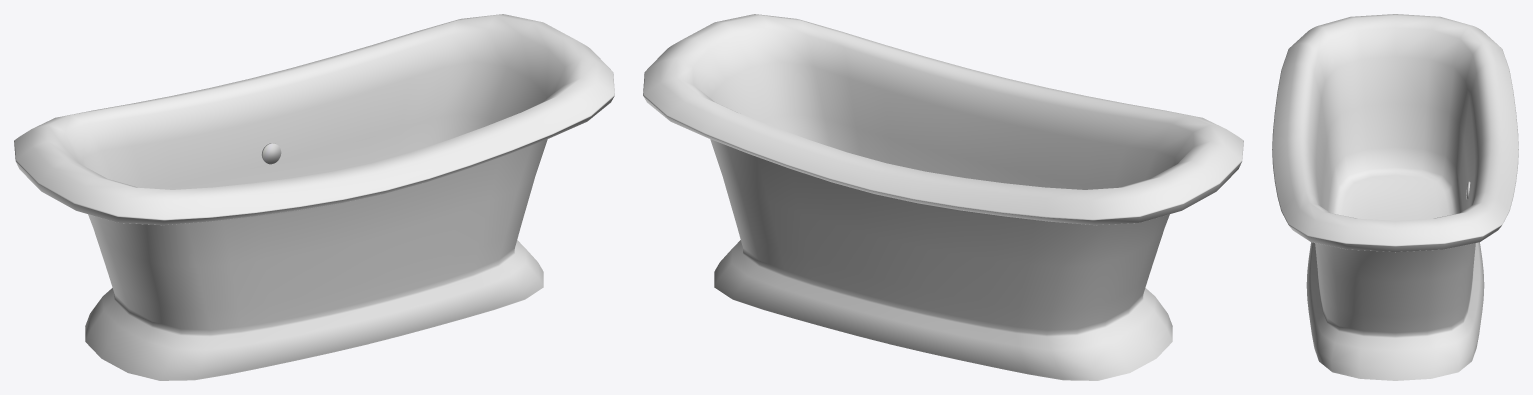
Rendered from BathTub01.glb.
3 views of the same model, side by side, from view 1: azimuth 30°, elevation 25°; view 2: azimuth 150°, elevation 25°; view 3: azimuth 270°, elevation 25° (orthographic). The views are drawn at different scales.
Visible parts, largest first — view 1: BathTub01_model; view 2: BathTub01_model; view 3: BathTub01_model.
Boxes of the visible parts, <box> form: BathTub01_model: <box>14,14,614,380</box>; BathTub01_model: <box>643,14,1243,380</box>; BathTub01_model: <box>1272,14,1518,380</box>.
Bounding box in the file's own units: 2.91 × 1.04 × 1.33.
Materials: 1 (1 with a texture image).
